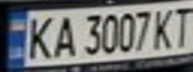0: (100, 10, 121, 55), (118, 9, 139, 53)
3: (78, 11, 103, 56)
7: (133, 7, 154, 51)
A: (51, 12, 78, 59)
K: (21, 12, 57, 61), (151, 4, 178, 51)
T: (169, 3, 193, 48)
